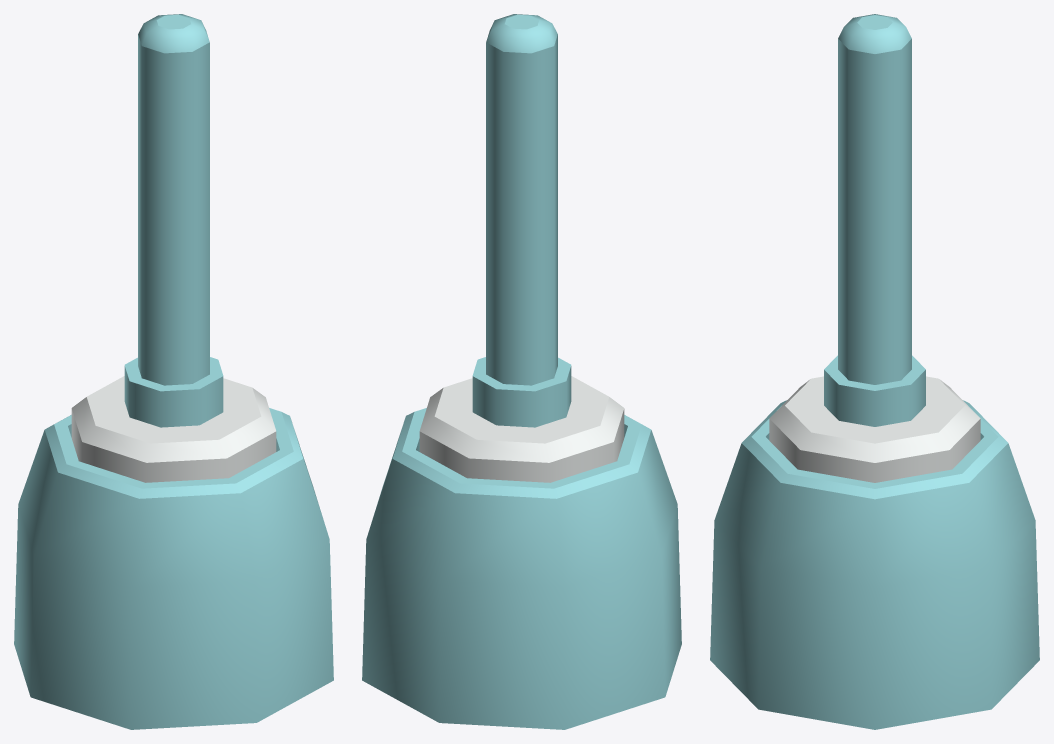
Rendered from Blend.glb.
The picture shows the model from 3 angles, left to right: view 1: azimuth 30°, elevation 25°; view 2: azimuth 150°, elevation 25°; view 3: azimuth 270°, elevation 25°; orthographic projection.
Parts seen in each view (by area): view 1: Brush; view 2: Brush; view 3: Brush.
Boxes of the visible parts, x1,y1,x2,y2 form: Brush: (14,14,333,729); Brush: (362,14,681,729); Brush: (710,14,1039,729).
Bounding box in the file's own units: 0.1826 × 0.3895 × 0.1826.
Materials: 2 (1 with a texture image).
